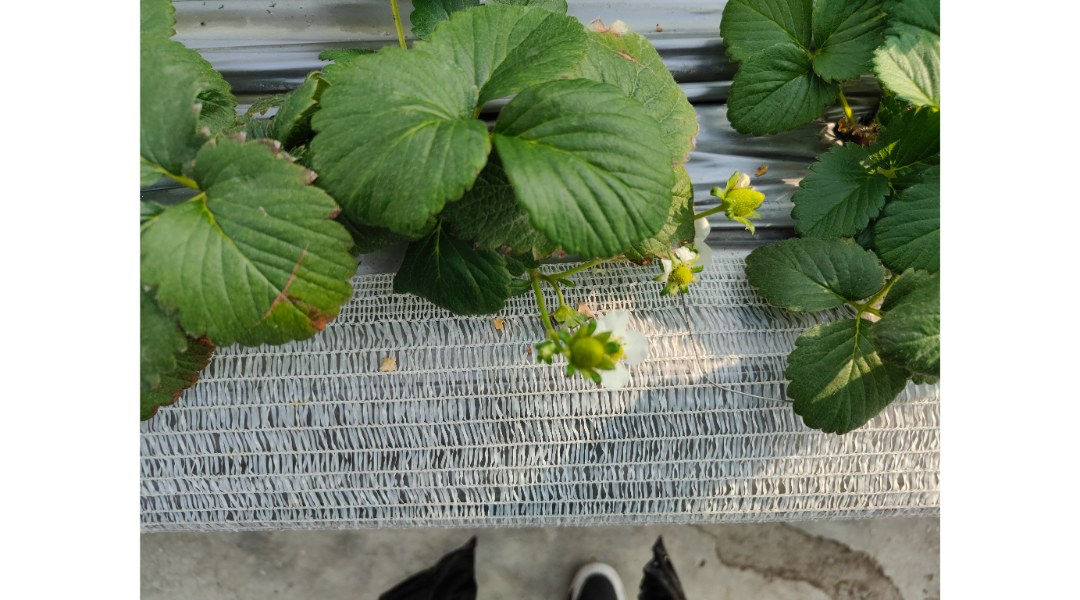berry: (703, 169, 787, 241), (549, 322, 632, 381), (650, 243, 707, 307)
strain: (529, 280, 556, 337), (565, 255, 627, 276), (693, 207, 722, 220)
